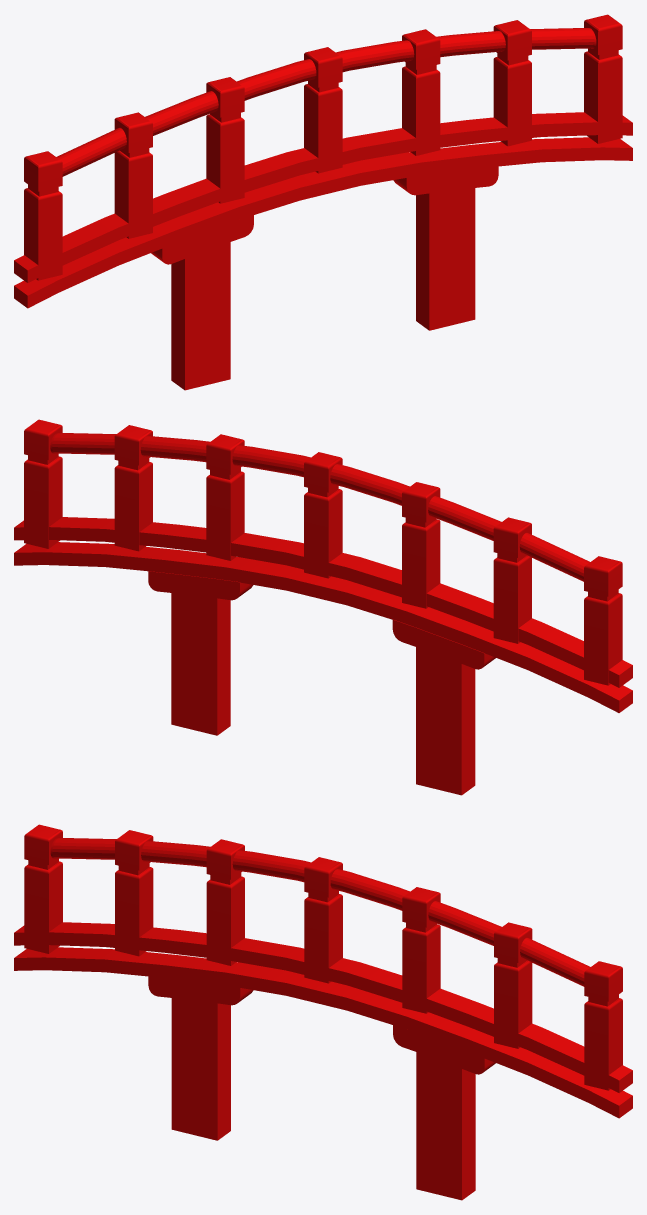
File: Hashi_migi.fbx
3 views of the same model, one above another, from view 1: azimuth 30°, elevation 25°; view 2: azimuth 150°, elevation 25°; view 3: azimuth 330°, elevation 25° (orthographic).
Visible parts, largest first — view 1: polySurface7; view 2: polySurface7; view 3: polySurface7.
Boxes of the visible parts, x1,y1,x2,y2 form: polySurface7: (14, 14, 632, 390); polySurface7: (14, 419, 632, 795); polySurface7: (14, 824, 632, 1200).
Bounding box in the file's own units: 990 × 463 × 40.
